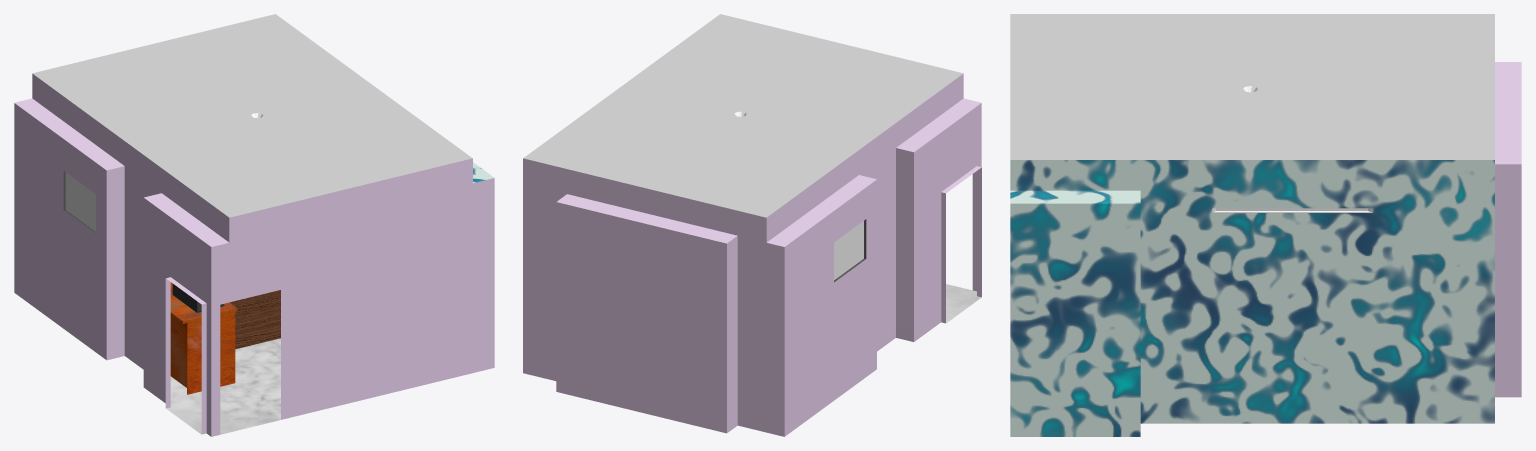
The model's file is room.fbx.
3 views of the same model, side by side, from view 1: azimuth 30°, elevation 25°; view 2: azimuth 150°, elevation 25°; view 3: azimuth 270°, elevation 25° (orthographic). The views are drawn at different scales.
Parts seen in each view (by area): view 1: room, table, bed; view 2: room; view 3: room.
Boxes of the visible parts, x1,y1,x2,y2 form: room: [14, 14, 494, 436]; table: [170, 282, 237, 394]; bed: [230, 290, 280, 349]; room: [523, 14, 981, 436]; room: [1010, 14, 1521, 436].
Bounding box in the file's own units: 1619 × 1153 × 2023.
